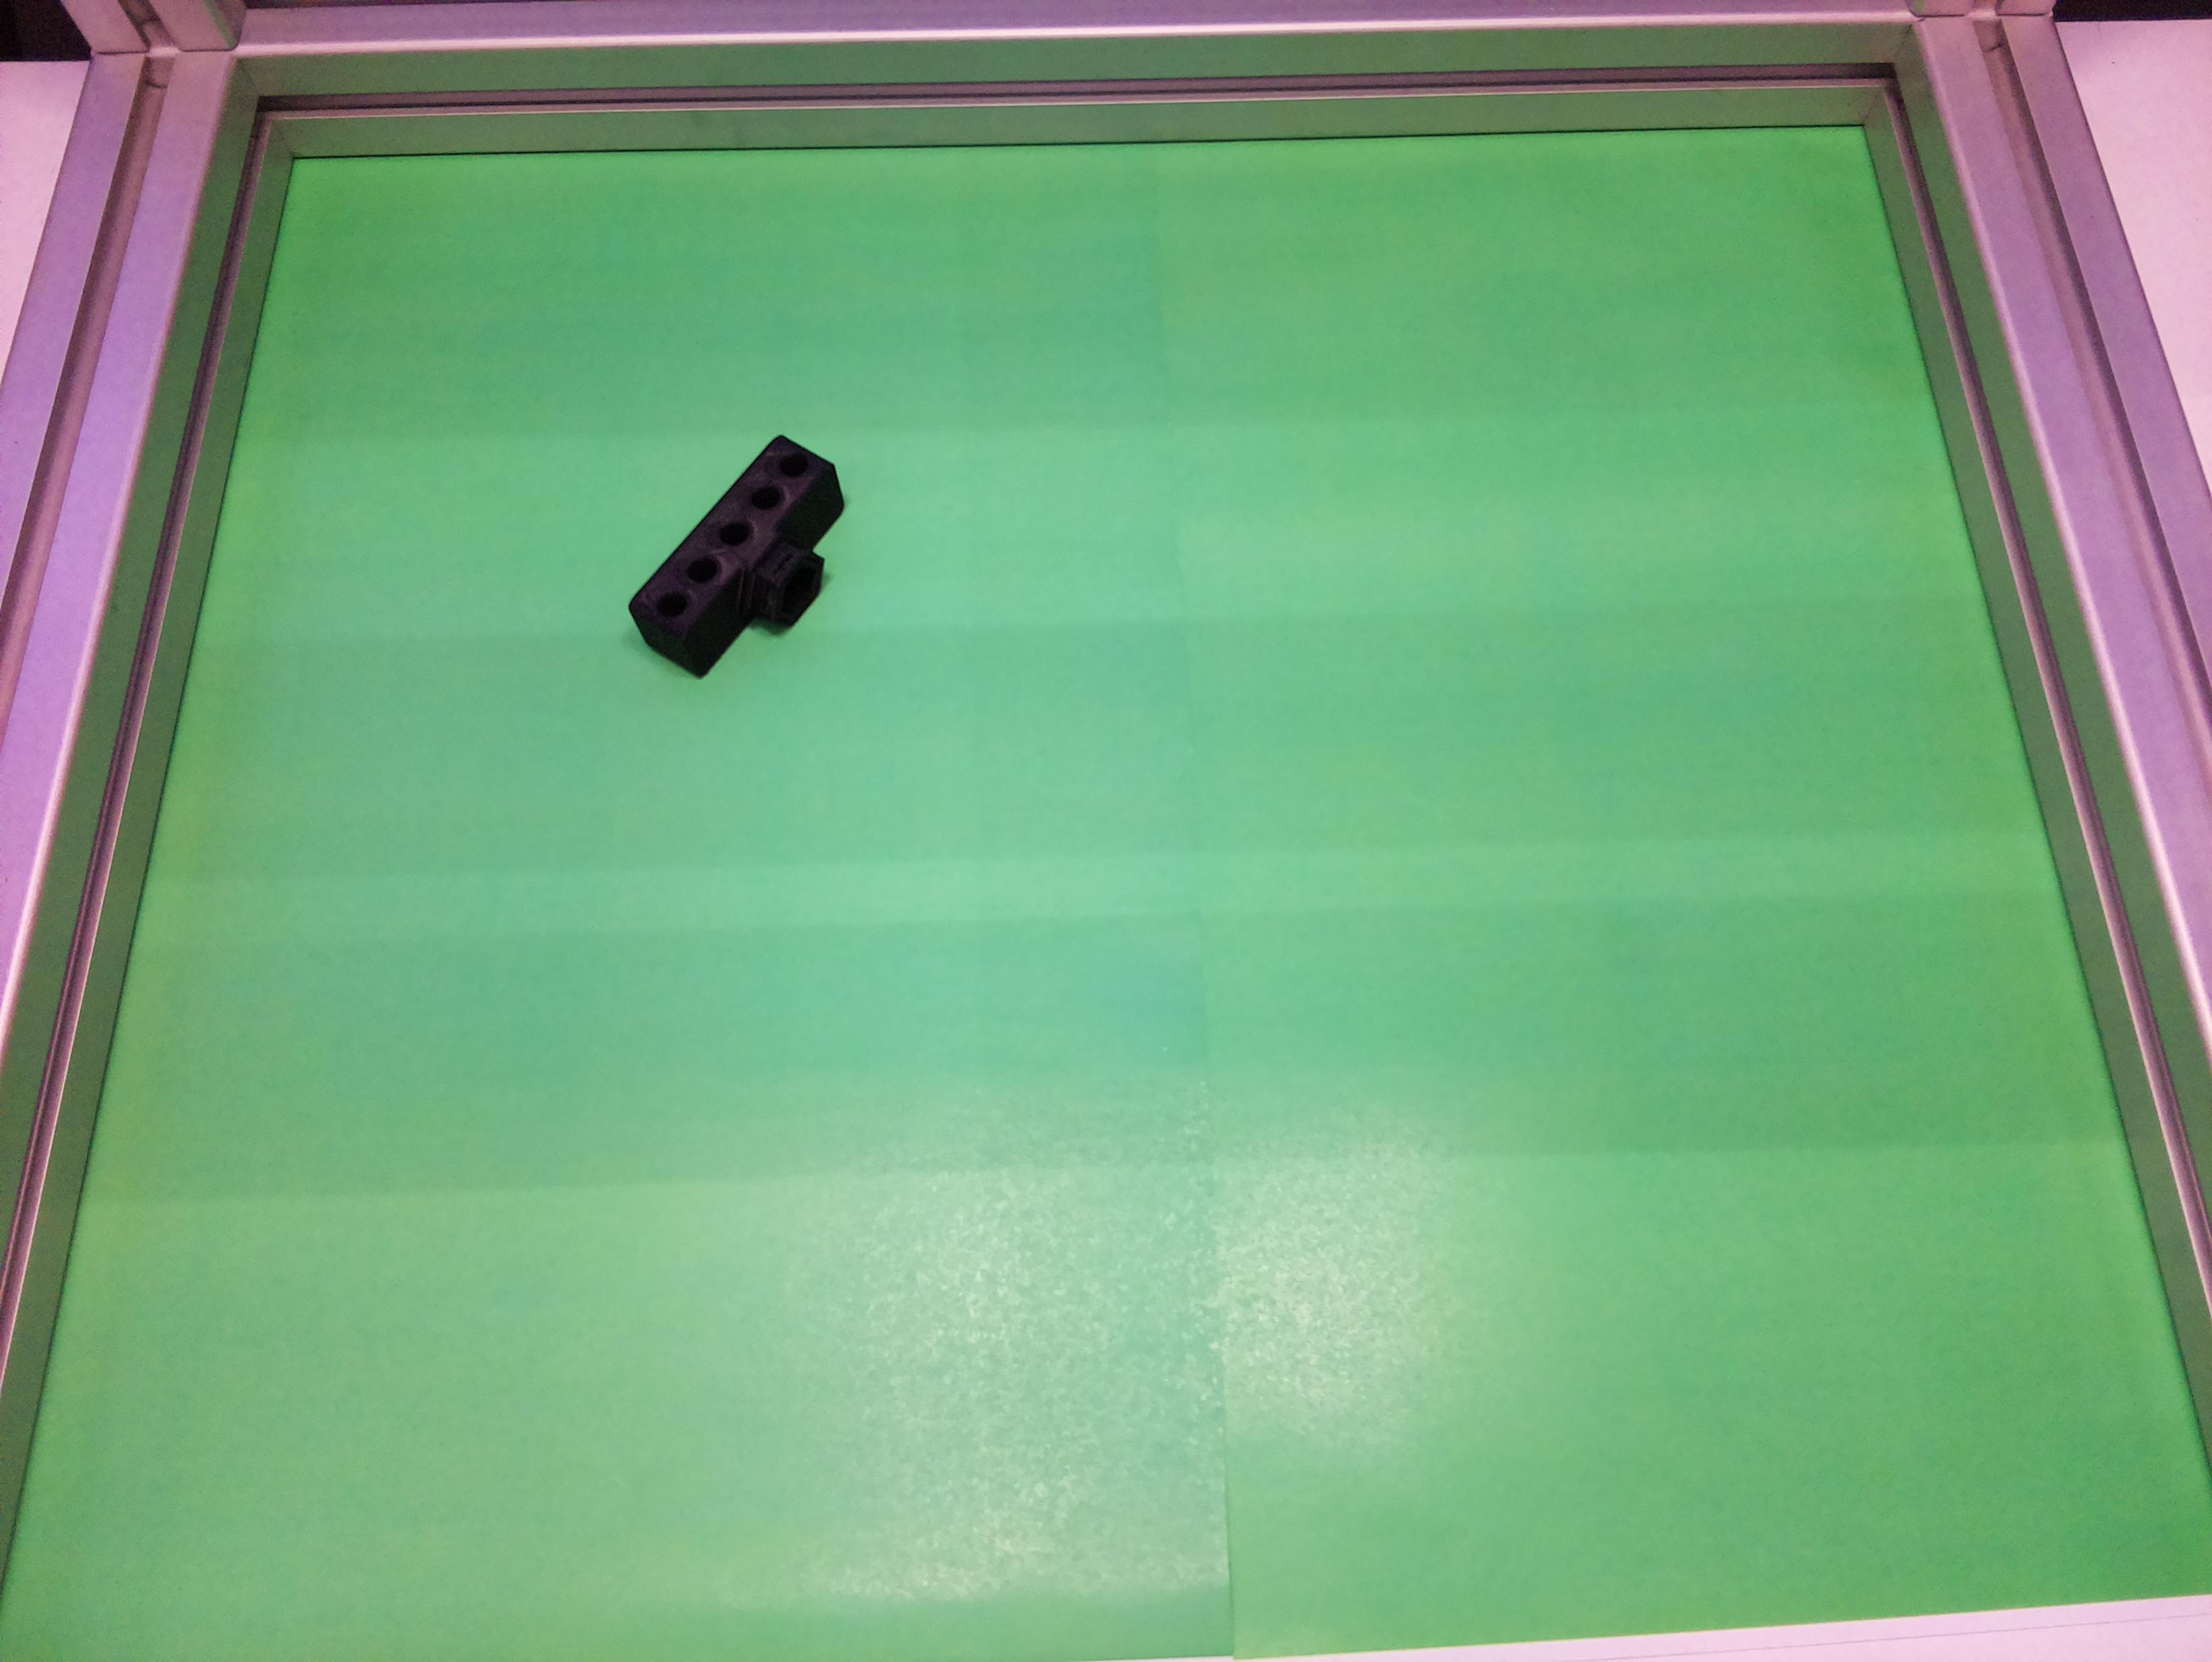bit_holder: (616, 419, 887, 707)
